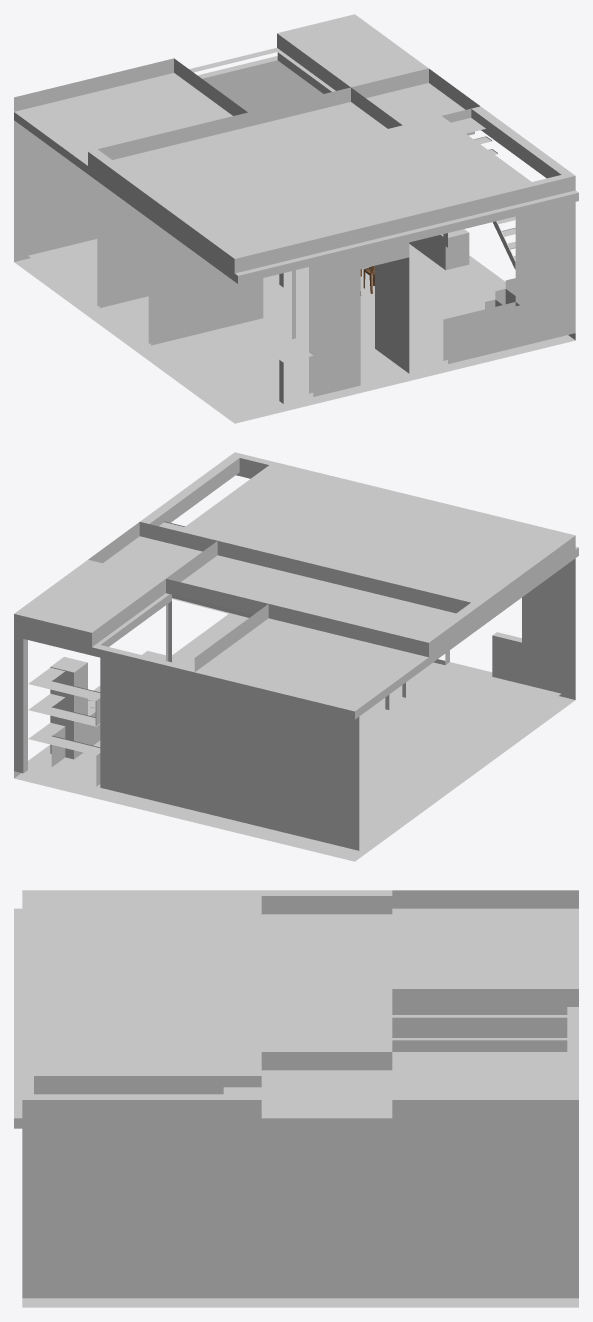
File: casa4_11.glb
3 renders of one model, top to bottom at view 1: azimuth 30°, elevation 25°; view 2: azimuth 150°, elevation 25°; view 3: azimuth 270°, elevation 25°, orthographic. The views are drawn at different scales.
Parts seen in each view (by area): view 1: Plane, Plane.003, Plane.004, Plane.002; view 2: Plane, Plane.003, Plane.004; view 3: Plane, Plane.003.
Boxes of the visible parts, x1,y1,x2,y2 form: Plane: (14,48,578,423); Plane.003: (14,14,575,273); Plane.004: (409,229,469,270); Plane.002: (450,117,515,309); Plane: (14,472,578,861); Plane.003: (14,452,575,708); Plane.004: (28,651,165,786); Plane: (14,908,578,1307); Plane.003: (22,890,578,1118).
Bounding box in the file's own units: 8.62 × 3.98 × 9.81.
Materials: 1 (1 with a texture image).
